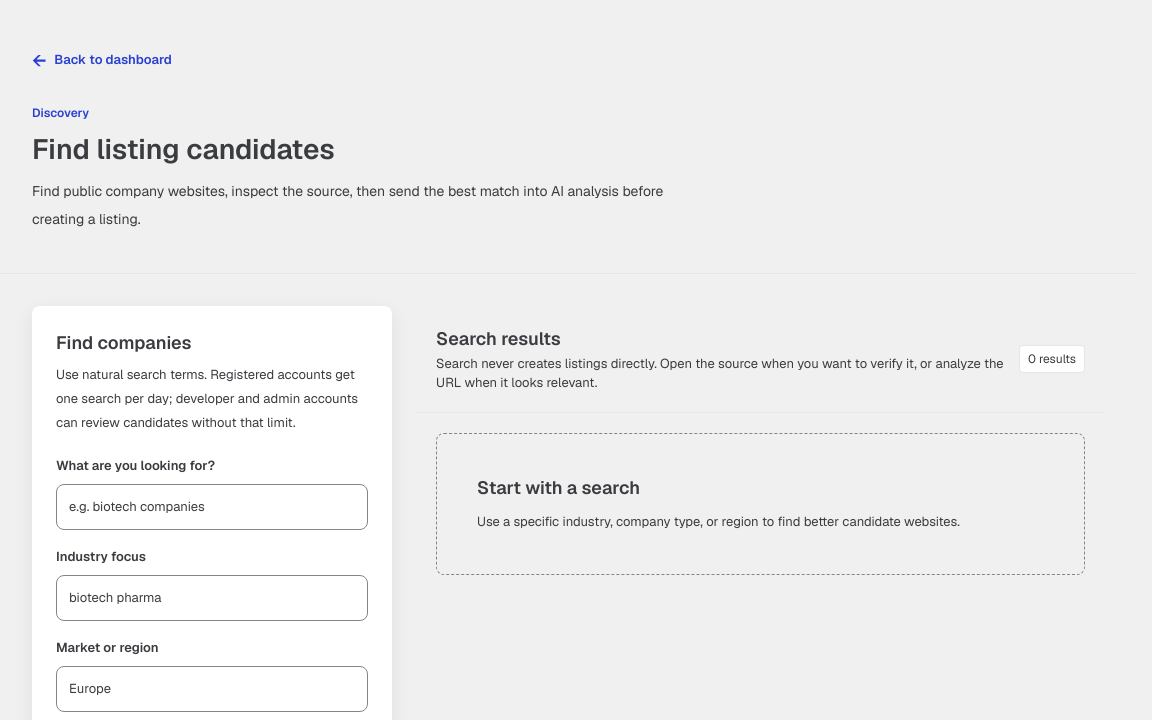
Test case: DiscoveryPageComponent › renders search results with source and analysis actions
Type "biotech companies" into the field named "query".
click(212, 507); type("biotech companies")  # box [56,484,368,530]
(page scrolled)
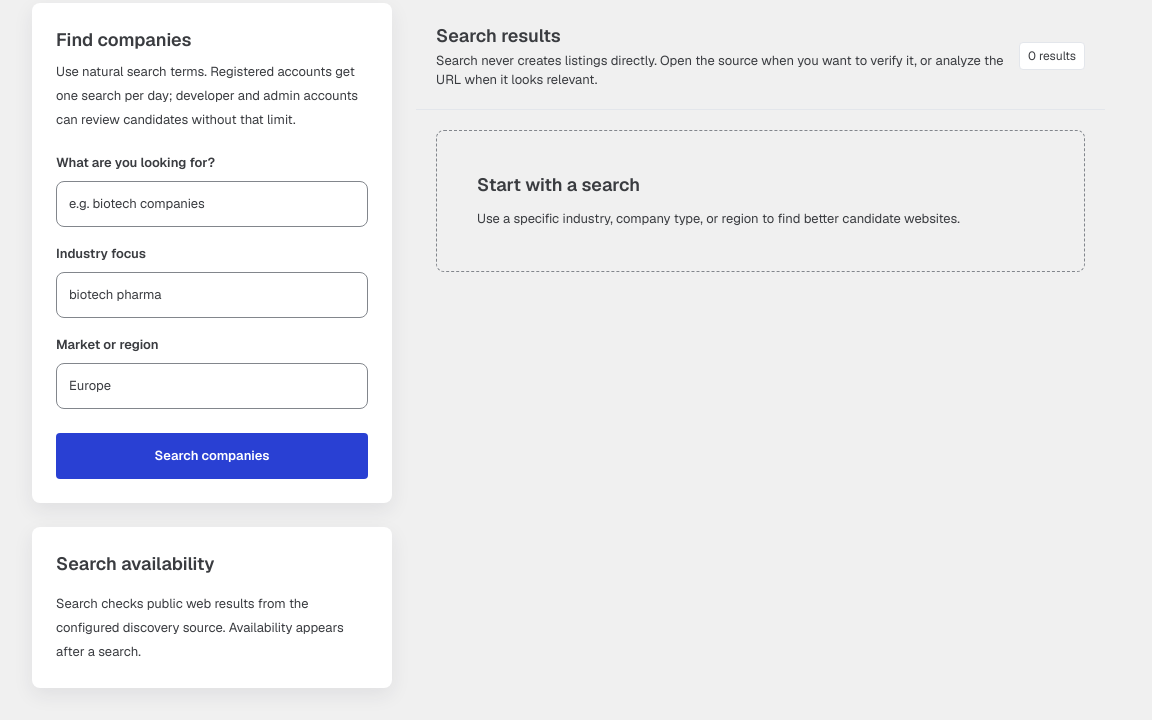
Click the button "Search companies".
click(212, 456)  # box [56,433,368,479]
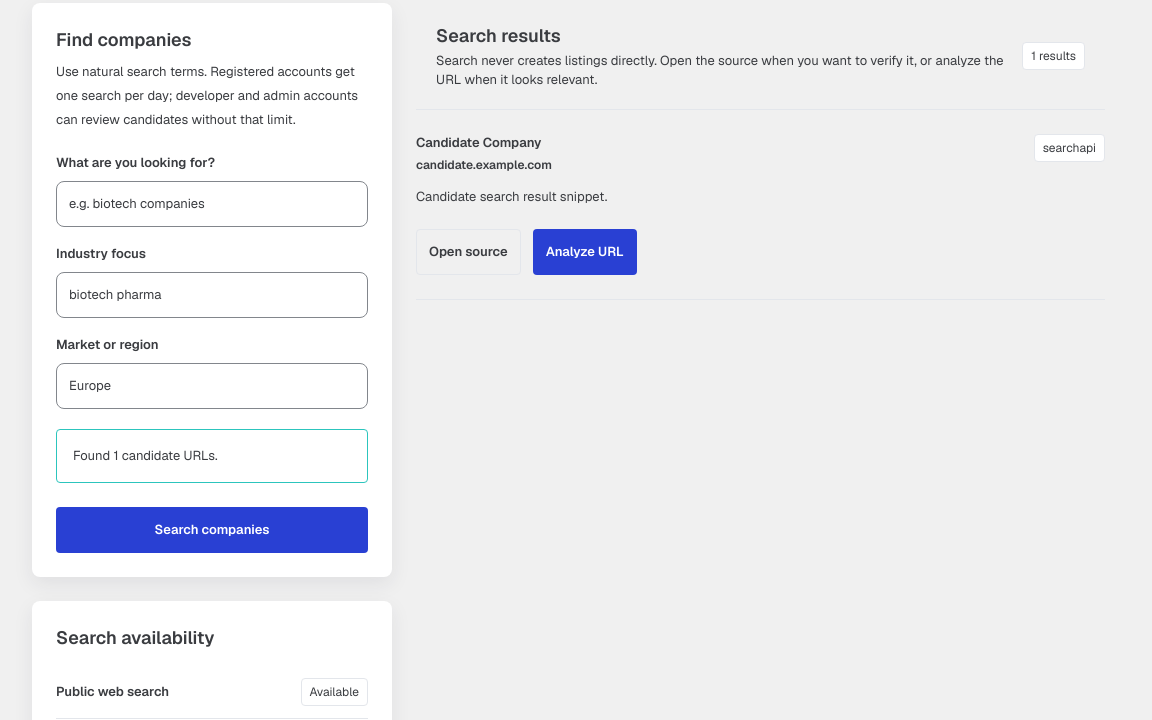
Now the text "Candidate Company" is shown, box [416,134,552,153]
Now the text "Public web search" is shown, box [56,683,169,701]
Now the text "Open source" is shown, box [416,229,521,275]
